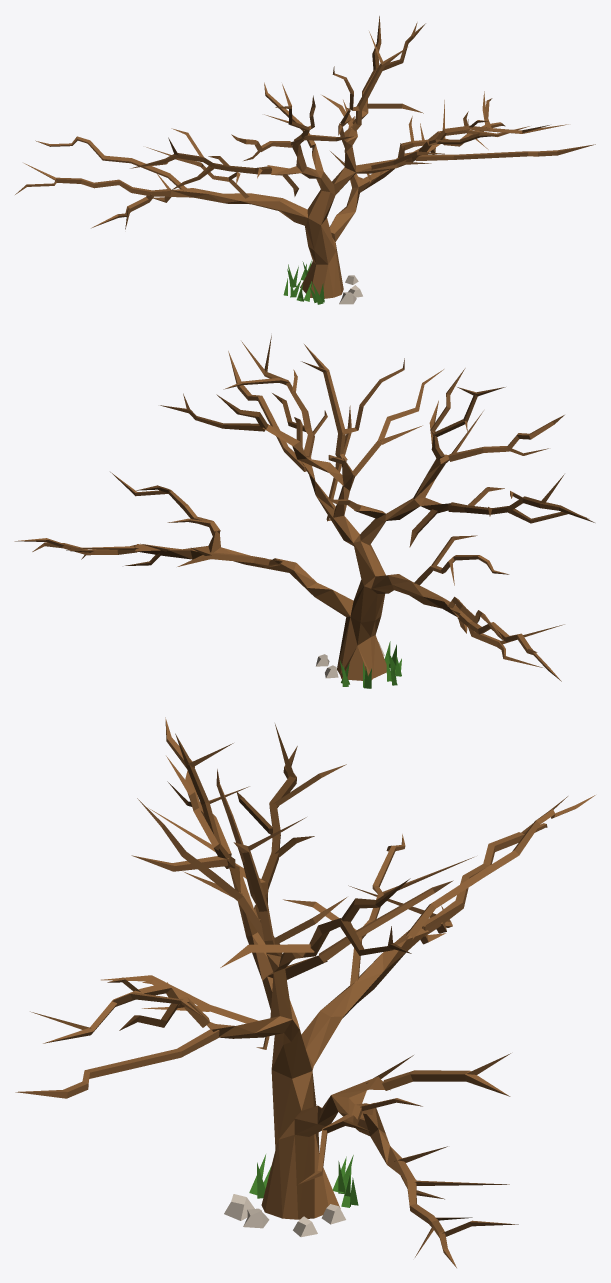
File: elm_4_bare.glb
3 renders of one model, top to bottom at view 1: azimuth 30°, elevation 25°; view 2: azimuth 150°, elevation 25°; view 3: azimuth 270°, elevation 25°, orthographic. The views are drawn at different scales.
Visible parts, largest first — view 1: elm_4_bare; view 2: elm_4_bare; view 3: elm_4_bare.
Part boxes in pixels (left/top/right/bottom): elm_4_bare: left=15, top=16, right=595, bottom=304; elm_4_bare: left=14, top=335, right=594, bottom=688; elm_4_bare: left=15, top=717, right=595, bottom=1267.
Bounding box in the file's own units: 11.62 × 5.93 × 7.22.
